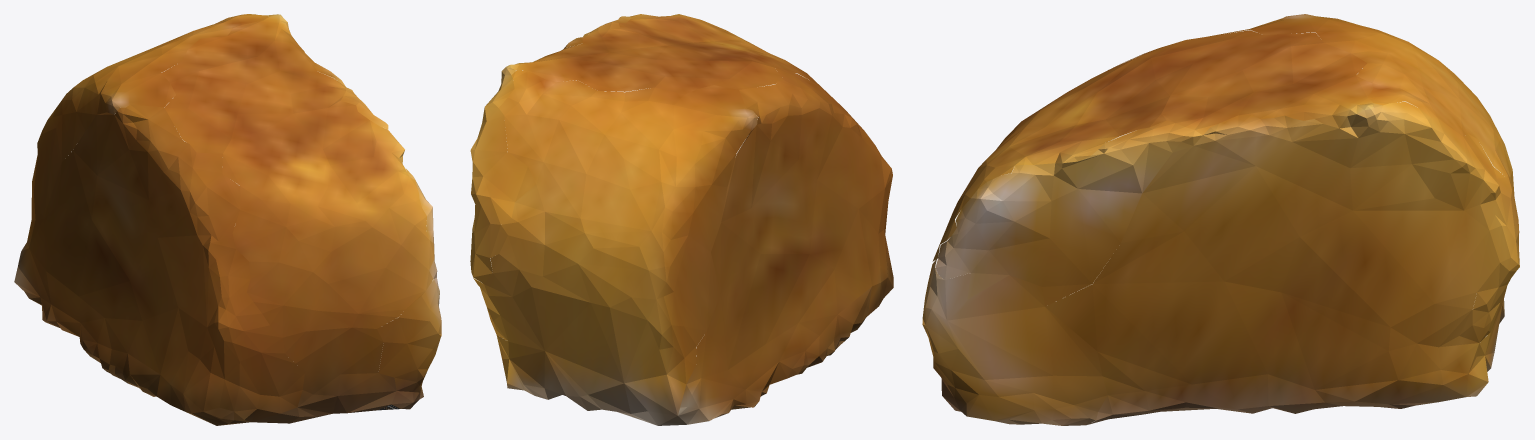
Rendered from tamagoyaki-1.glb.
3 views of the same model, side by side, from view 1: azimuth 30°, elevation 25°; view 2: azimuth 150°, elevation 25°; view 3: azimuth 270°, elevation 25° (orthographic). The views are drawn at different scales.
Parts seen in each view (by area): view 1: mesh.001; view 2: mesh.001; view 3: mesh.001.
Part boxes in pixels (x1,y1,x2,y2): mesh.001: [14, 14, 441, 425]; mesh.001: [470, 14, 893, 425]; mesh.001: [922, 14, 1519, 425].
Bounding box in the file's own units: 0.0246 × 0.0258 × 0.0428.
1 material, 1 textured.
